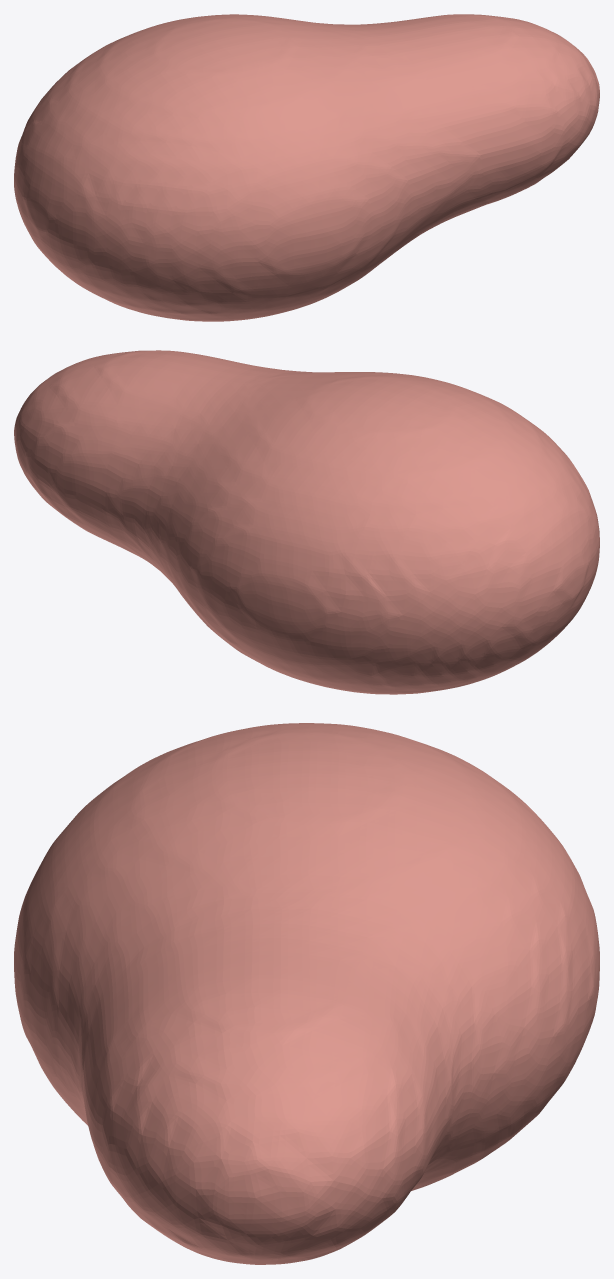
File: organ-liver.glb
3 views of the same model, one above another, from view 1: azimuth 30°, elevation 25°; view 2: azimuth 150°, elevation 25°; view 3: azimuth 270°, elevation 25° (orthographic). The views are drawn at different scales.
Parts seen in each view (by area): view 1: geometry_0; view 2: geometry_0; view 3: geometry_0.
Boxes of the visible parts, bbox=[...] form: geometry_0: bbox=[14, 14, 599, 321]; geometry_0: bbox=[14, 350, 599, 694]; geometry_0: bbox=[14, 723, 599, 1264].
Bounding box in the file's own units: 0.4004 × 0.1838 × 0.2469.
